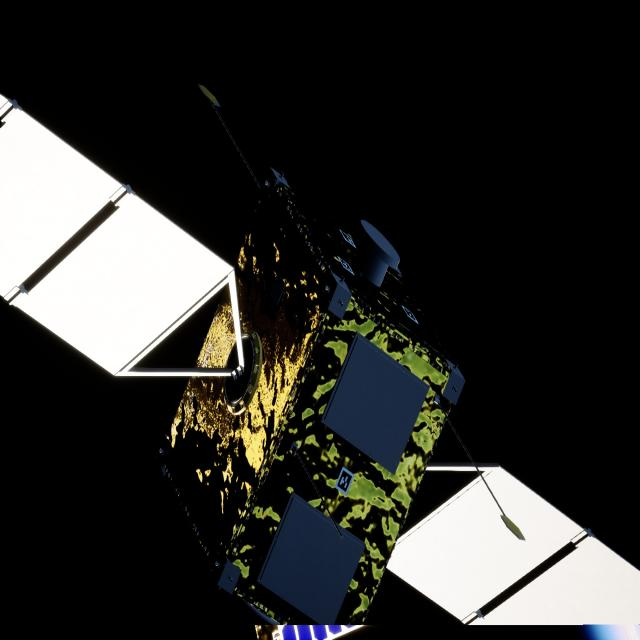medium_debris: (0, 85, 640, 640)
